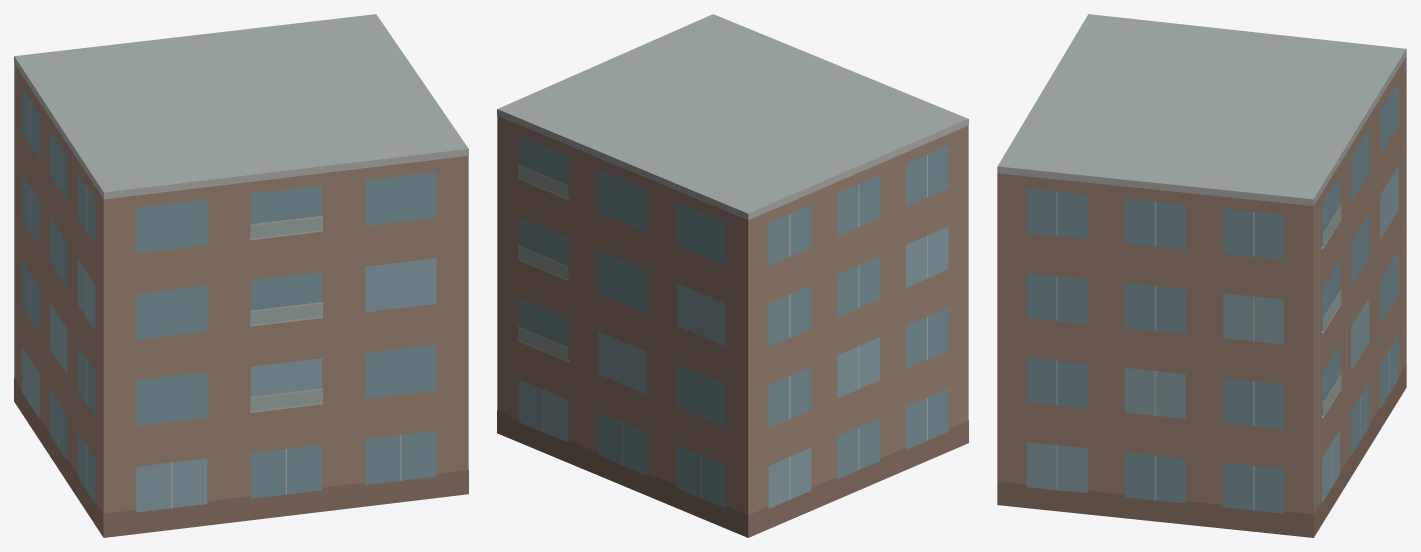
Rendered from survey-upis-33015520.glb.
3 views of the same model, side by side, from view 1: azimuth 30°, elevation 25°; view 2: azimuth 150°, elevation 25°; view 3: azimuth 270°, elevation 25° (orthographic). The views are drawn at different scales.
Parts seen in each view (by area): view 1: survey-upis-33015520.tmp; view 2: survey-upis-33015520.tmp; view 3: survey-upis-33015520.tmp.
Boxes of the visible parts, <box> form: survey-upis-33015520.tmp: <box>14,14,468,537</box>; survey-upis-33015520.tmp: <box>497,14,968,537</box>; survey-upis-33015520.tmp: <box>997,14,1406,537</box>.
Bounding box in the file's own units: 14.27 × 12.15 × 13.32.
